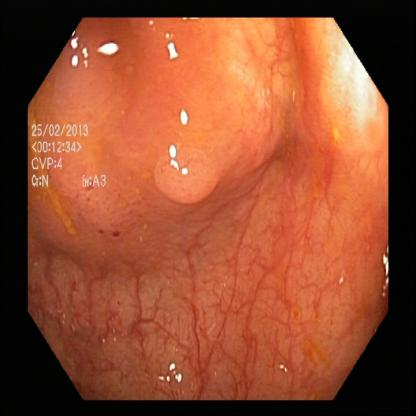Labels: (27, 106, 119, 206)
Polyps: (149, 105, 239, 214)
